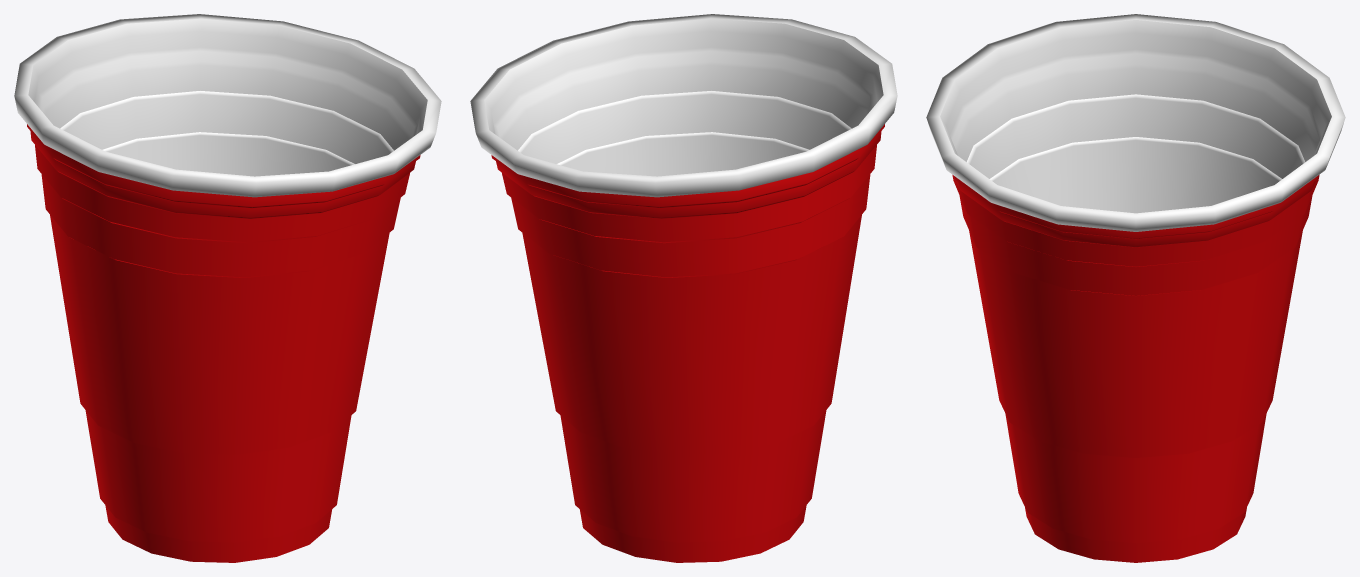
3 views of the same model, side by side, from view 1: azimuth 30°, elevation 25°; view 2: azimuth 150°, elevation 25°; view 3: azimuth 270°, elevation 25° (orthographic). The views are drawn at different scales.
Visible parts, largest first — view 1: plastic_cup_opt:plasticCup (×2); view 2: plastic_cup_opt:plasticCup (×2); view 3: plastic_cup_opt:plasticCup (×2).
Part boxes in pixels (x1=…): plastic_cup_opt:plasticCup (×2): x1=14, y1=14, x2=441, y2=562; plastic_cup_opt:plasticCup (×2): x1=470, y1=14, x2=897, y2=562; plastic_cup_opt:plasticCup (×2): x1=926, y1=14, x2=1345, y2=562.
Bounding box in the file's own units: 1.8 × 2 × 1.81.
